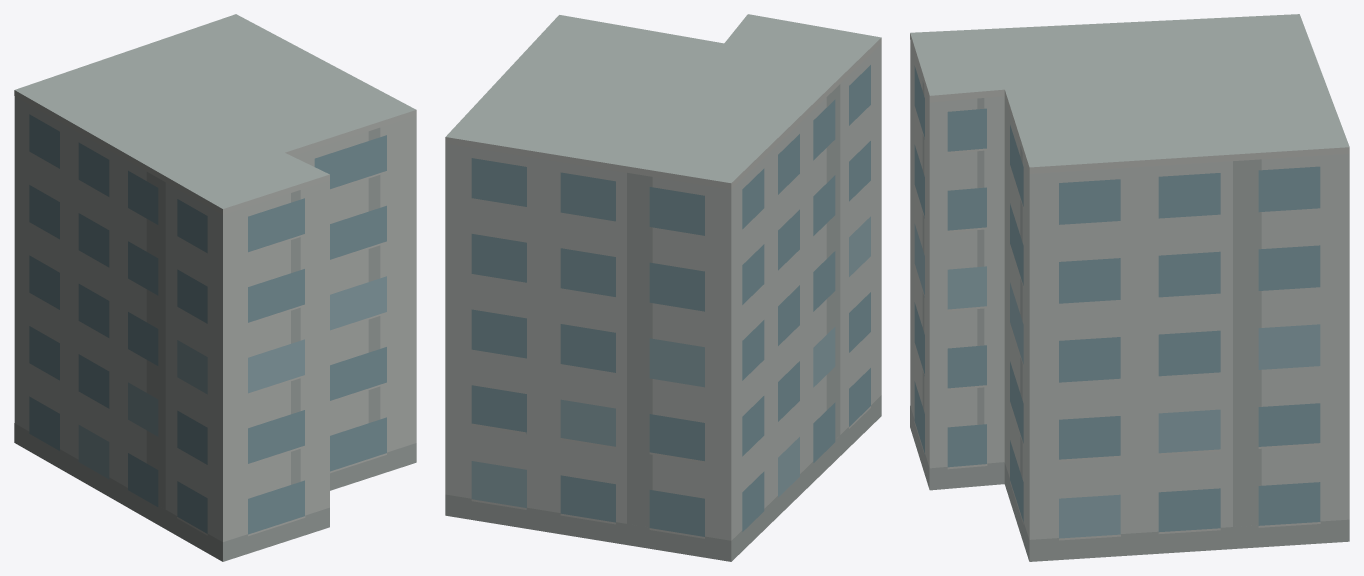
Rendered from survey-upis-32576753.glb.
3 renders of one model, left to right at view 1: azimuth 30°, elevation 25°; view 2: azimuth 150°, elevation 25°; view 3: azimuth 270°, elevation 25°, orthographic. The views are drawn at different scales.
Visible parts, largest first — view 1: survey-upis-32576753.tmp; view 2: survey-upis-32576753.tmp; view 3: survey-upis-32576753.tmp.
Part boxes in pixels (<box>): survey-upis-32576753.tmp: <box>14,14,416,561</box>; survey-upis-32576753.tmp: <box>445,14,881,561</box>; survey-upis-32576753.tmp: <box>910,14,1349,561</box>.
Size of the model in its own units: 12.11 by 14.5 by 14.66.
